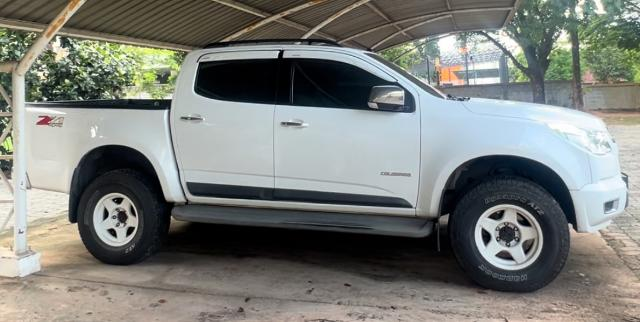pickup-truck: (12, 36, 630, 294)
